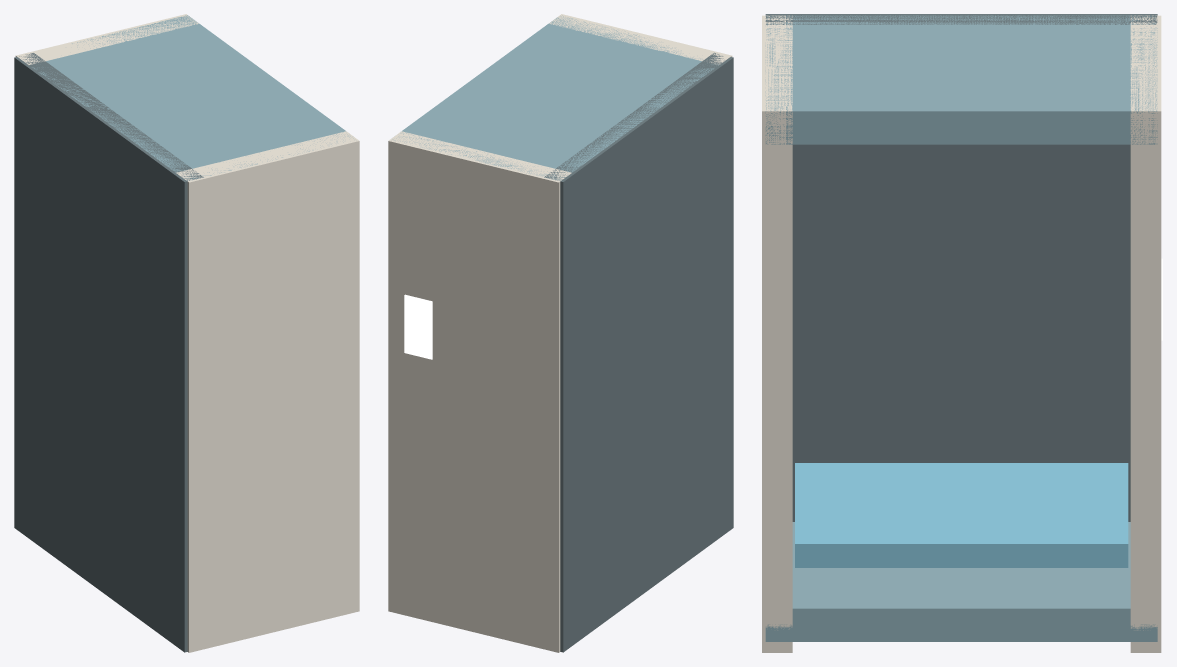
File: prop_wardrobe_bay_v4_ShadowProxy.glb
3 views of the same model, side by side, from view 1: azimuth 30°, elevation 25°; view 2: azimuth 150°, elevation 25°; view 3: azimuth 270°, elevation 25° (orthographic). The views are drawn at different scales.
Visible parts, largest first — view 1: prop_wardrobe_bay_v4_ShadowProxy / Primary assembly; view 2: prop_wardrobe_bay_v4_ShadowProxy / Primary assembly; view 3: prop_wardrobe_bay_v4_ShadowProxy / Primary assembly.
Boxes of the visible parts, x1,y1,x2,y2 form: prop_wardrobe_bay_v4_ShadowProxy / Primary assembly: [14, 14, 359, 652]; prop_wardrobe_bay_v4_ShadowProxy / Primary assembly: [388, 14, 733, 652]; prop_wardrobe_bay_v4_ShadowProxy / Primary assembly: [762, 14, 1162, 652].
Bounding box in the file's own units: 0.7529 × 1.95 × 1.31.
